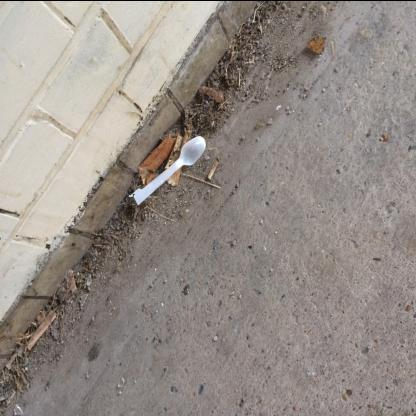plastik: (134, 136, 206, 204)
